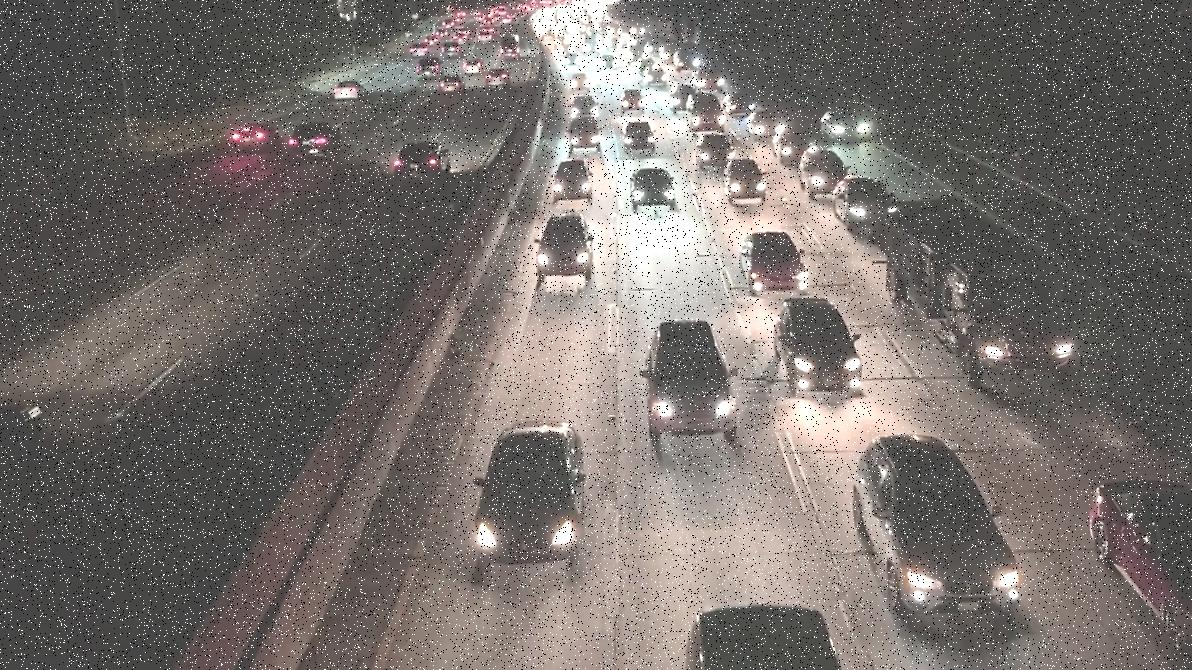car: (848, 437, 1028, 625), (1084, 471, 1192, 667), (468, 417, 580, 565), (639, 318, 738, 442), (774, 296, 864, 394), (739, 231, 808, 296), (533, 215, 592, 284), (720, 158, 768, 206), (798, 150, 845, 199), (627, 167, 677, 209), (551, 160, 597, 203), (390, 142, 447, 176), (290, 123, 341, 158), (227, 122, 279, 152), (619, 121, 662, 151), (566, 117, 603, 149), (332, 81, 367, 102), (484, 68, 512, 88), (437, 75, 464, 94)
truck: (874, 201, 1083, 381)
